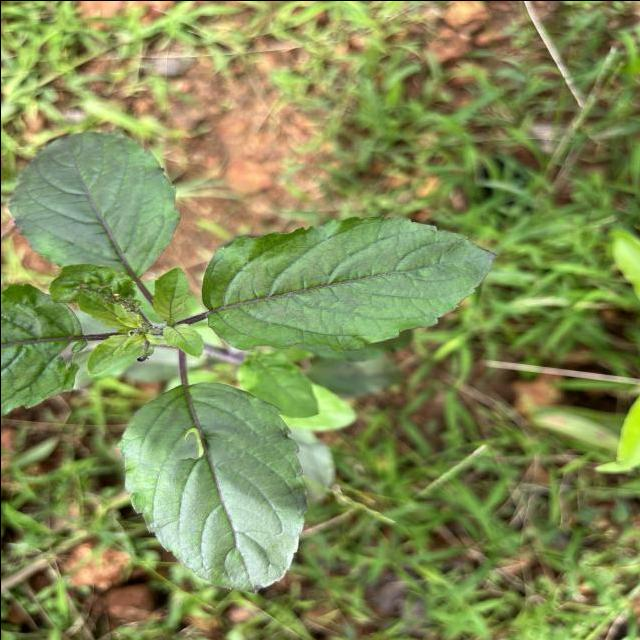Ocimum tenuiflorum: (195, 209, 499, 358), (109, 377, 312, 596)
